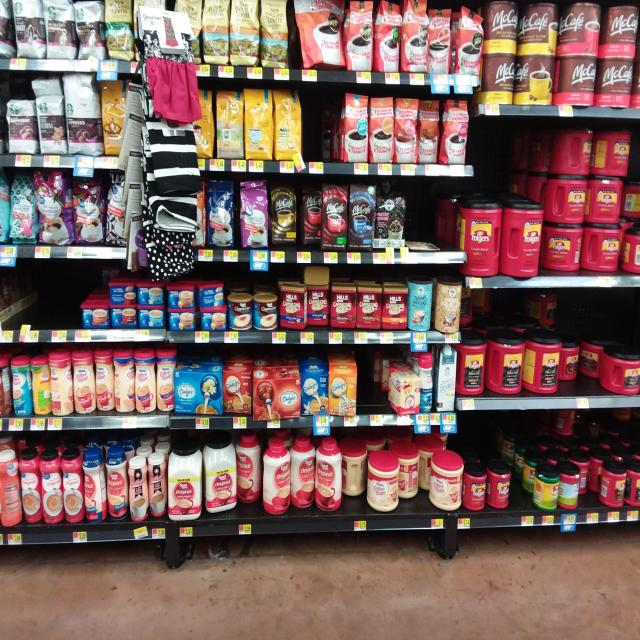empty_space: (10, 270, 85, 322), (472, 129, 524, 191), (411, 194, 447, 249), (308, 97, 328, 155), (362, 353, 379, 404), (516, 466, 528, 506)
